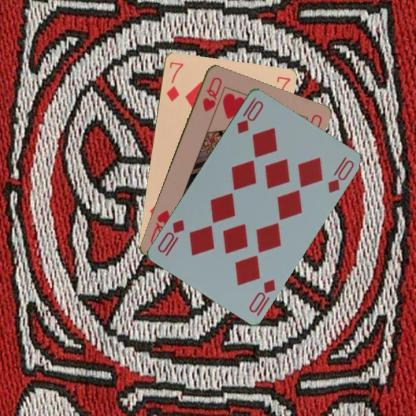10d: (234, 94, 265, 135), (246, 276, 277, 317)
7d: (164, 59, 184, 102)
Qh: (200, 74, 223, 113)
